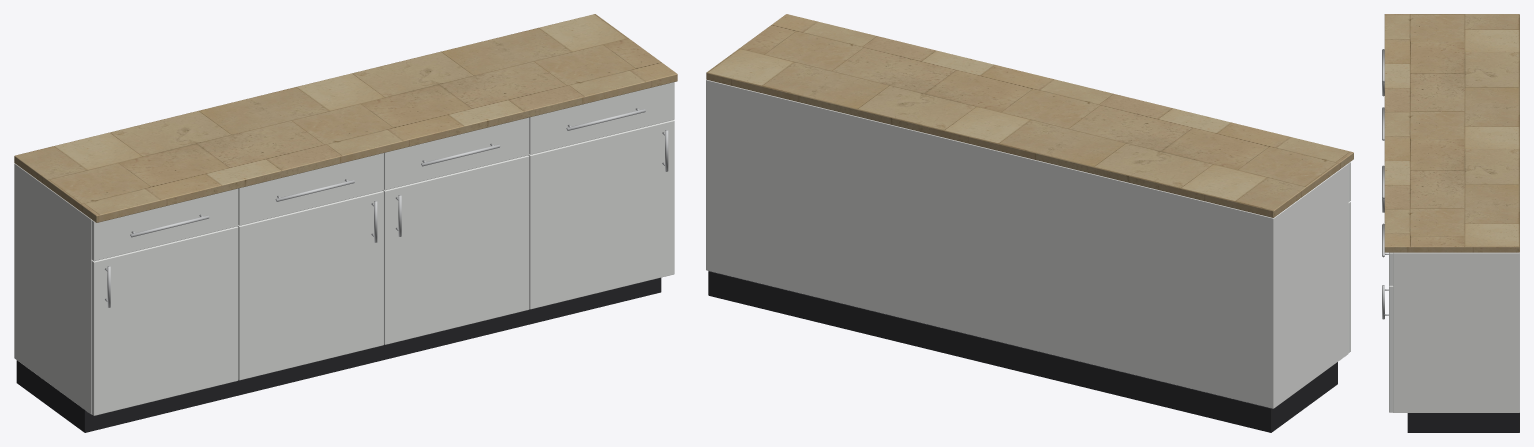
Rendered from kitchen_counter.glb.
The picture shows the model from 3 angles, left to right: view 1: azimuth 30°, elevation 25°; view 2: azimuth 150°, elevation 25°; view 3: azimuth 270°, elevation 25°; orthographic projection. The views are drawn at different scales.
Visible parts, largest first — view 1: Cube.010, Cube.003, Cube.007, Cube.009, Cube.005, Cube.001, Cube, Cube.002, Cube.008, Cube.004, Cube.006; view 2: Cube.001, Cube.010, Cube; view 3: Cube.010, Cube.001, Cube, Cube.009, Cube.008.
Boxes of the visible parts, x1=… form: Cube.010: x1=14, y1=14, x2=677, y2=222; Cube.003: x1=91, y1=226, x2=238, y2=415; Cube.007: x1=383, y1=155, x2=529, y2=344; Cube.009: x1=528, y1=120, x2=674, y2=309; Cube.005: x1=238, y1=191, x2=383, y2=380; Cube.001: x1=14, y1=163, x2=92, y2=414; Cube: x1=16, y1=277, x2=661, y2=432; Cube.002: x1=91, y1=188, x2=238, y2=261; Cube.008: x1=529, y1=82, x2=674, y2=154; Cube.004: x1=238, y1=153, x2=383, y2=225; Cube.006: x1=384, y1=117, x2=529, y2=190; Cube.001: x1=706, y1=79, x2=1348, y2=408; Cube.010: x1=706, y1=14, x2=1353, y2=217; Cube: x1=708, y1=271, x2=1337, y2=432; Cube.010: x1=1384, y1=14, x2=1519, y2=252; Cube.001: x1=1393, y1=252, x2=1519, y2=412; Cube: x1=1407, y1=413, x2=1519, y2=432; Cube.009: x1=1389, y1=285, x2=1393, y2=412; Cube.008: x1=1389, y1=252, x2=1393, y2=285.
Bounding box in the file's own units: 2.4 × 0.9 × 0.5995.
5 materials, 1 textured.
